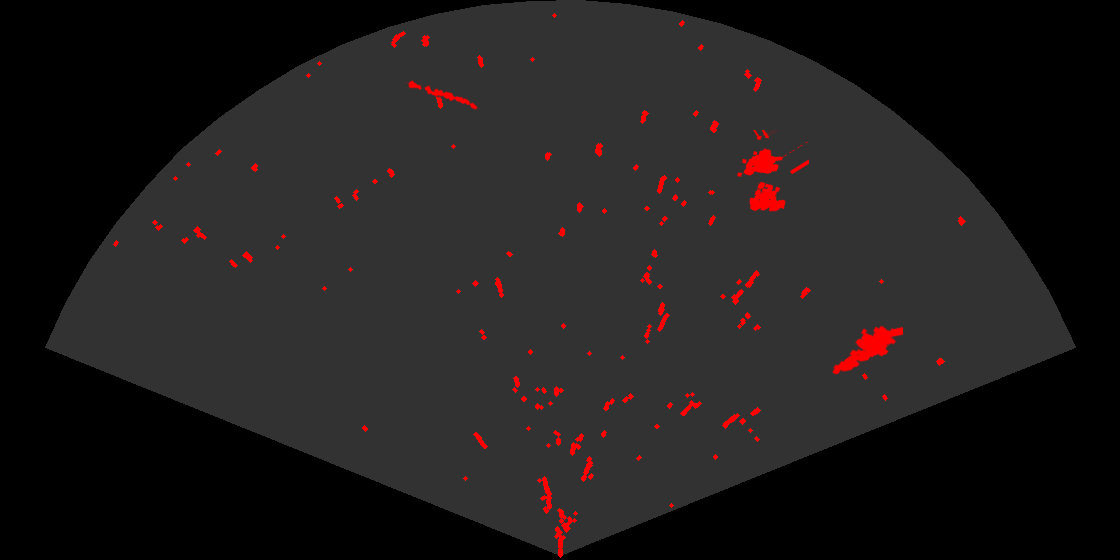cage: (735, 130, 809, 213)
chain: (405, 79, 480, 111)
frogman: (831, 324, 903, 376)
